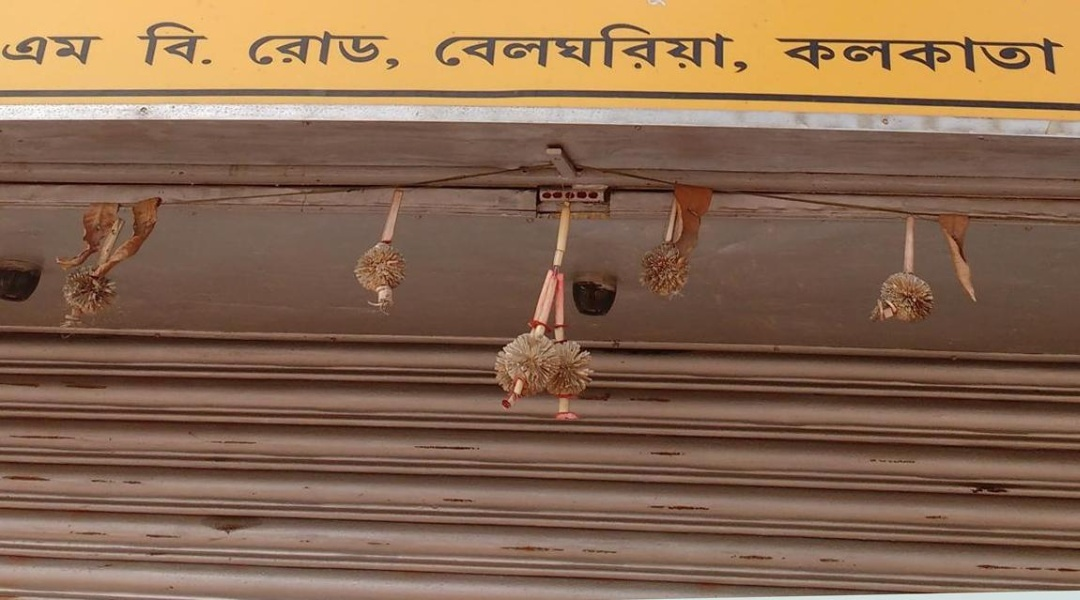text: (433, 17, 448, 85), (449, 17, 464, 85), (465, 17, 480, 85), (481, 17, 496, 85), (497, 17, 512, 85), (513, 17, 528, 85), (529, 17, 544, 85), (545, 17, 560, 85), (561, 17, 576, 85), (577, 17, 592, 85), (593, 17, 608, 85), (609, 17, 624, 85), (625, 17, 640, 85), (641, 17, 656, 85), (657, 17, 672, 85), (673, 17, 688, 85), (689, 17, 704, 85), (705, 17, 720, 85), (721, 17, 736, 85), (737, 17, 752, 85), (145, 18, 160, 74), (161, 18, 176, 74), (177, 18, 192, 74), (193, 18, 208, 74), (785, 25, 800, 78), (801, 25, 816, 78), (817, 25, 832, 78), (833, 25, 848, 78), (849, 25, 864, 78), (865, 25, 880, 78), (881, 25, 896, 78), (897, 25, 912, 78), (913, 25, 928, 78), (929, 25, 944, 78), (945, 25, 960, 78), (961, 25, 976, 78), (977, 25, 992, 78), (993, 25, 1008, 78), (1009, 25, 1024, 78), (1025, 25, 1040, 78), (1041, 25, 1056, 78), (1057, 25, 1071, 78), (209, 18, 222, 74), (17, 29, 32, 77), (33, 29, 48, 77), (49, 29, 64, 77), (65, 29, 80, 77), (81, 29, 96, 77), (97, 29, 112, 77), (257, 29, 272, 76), (273, 29, 288, 76), (289, 29, 304, 76), (305, 29, 320, 76), (321, 29, 336, 76), (337, 29, 352, 76), (353, 29, 368, 76), (369, 29, 384, 76), (385, 29, 400, 76), (772, 25, 784, 78), (423, 17, 432, 85), (243, 29, 256, 76), (5, 29, 16, 77), (401, 29, 410, 76), (137, 18, 144, 74), (753, 17, 756, 85)
